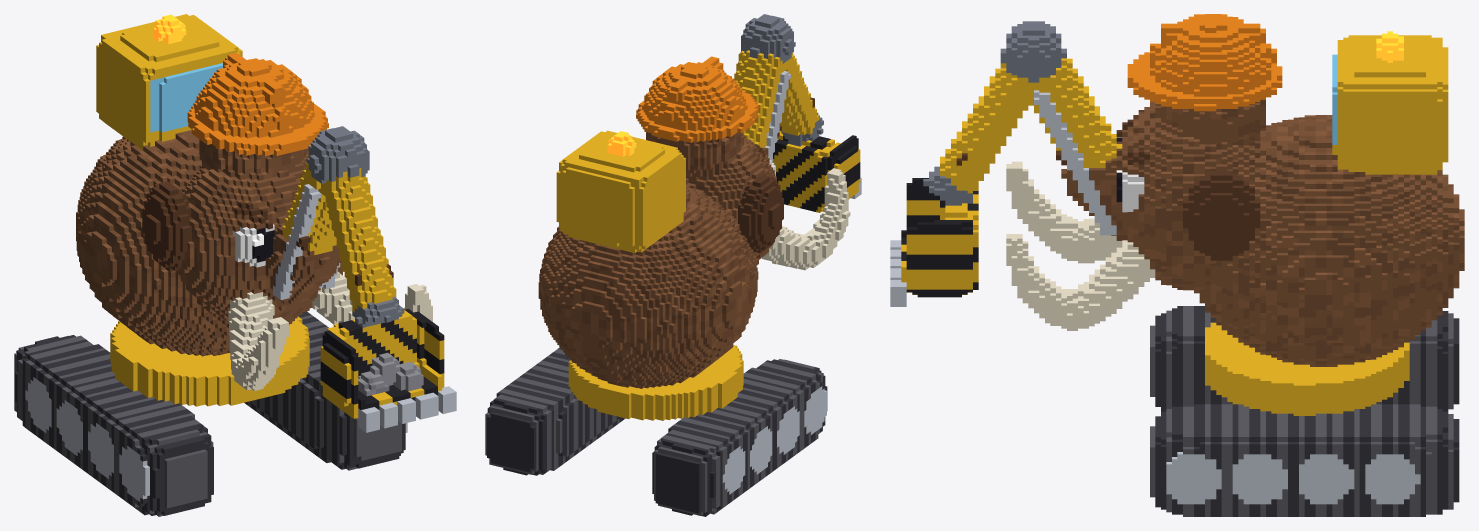
The model's file is escavatore_mammuttone.glb.
3 views of the same model, side by side, from view 1: azimuth 30°, elevation 25°; view 2: azimuth 150°, elevation 25°; view 3: azimuth 270°, elevation 25° (orthographic). The views are drawn at different scales.
Parts seen in each view (by area): view 1: SM_Brainrot_escavatore_mammuttone; view 2: SM_Brainrot_escavatore_mammuttone; view 3: SM_Brainrot_escavatore_mammuttone.
Boxes of the visible parts, x1,y1,x2,y2 form: SM_Brainrot_escavatore_mammuttone: [14, 14, 456, 516]; SM_Brainrot_escavatore_mammuttone: [485, 14, 861, 516]; SM_Brainrot_escavatore_mammuttone: [890, 14, 1464, 516].
Size of the model in its own units: 3.48 by 5.16 by 6.24.
1 material, 1 textured.
